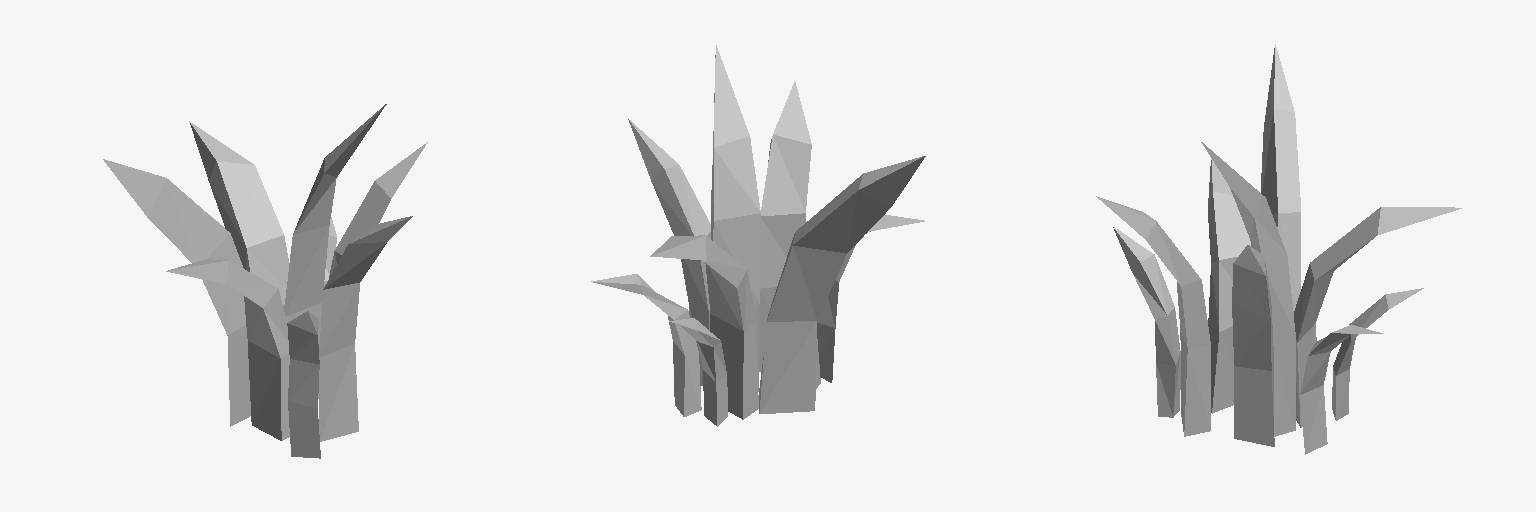
Rendered from grass_3.obj.
3 renders of one model, left to right at view 1: azimuth 30°, elevation 25°; view 2: azimuth 150°, elevation 25°; view 3: azimuth 270°, elevation 25°, orthographic.
Visible parts, largest first — view 1: grass_3; view 2: grass_3; view 3: grass_3.
Boxes of the visible parts, <box> form: grass_3: <box>103,104,427,458</box>; grass_3: <box>591,45,925,426</box>; grass_3: <box>1096,44,1461,454</box>.
Size of the model in its own units: 0.4784 by 0.4705 by 0.4905.